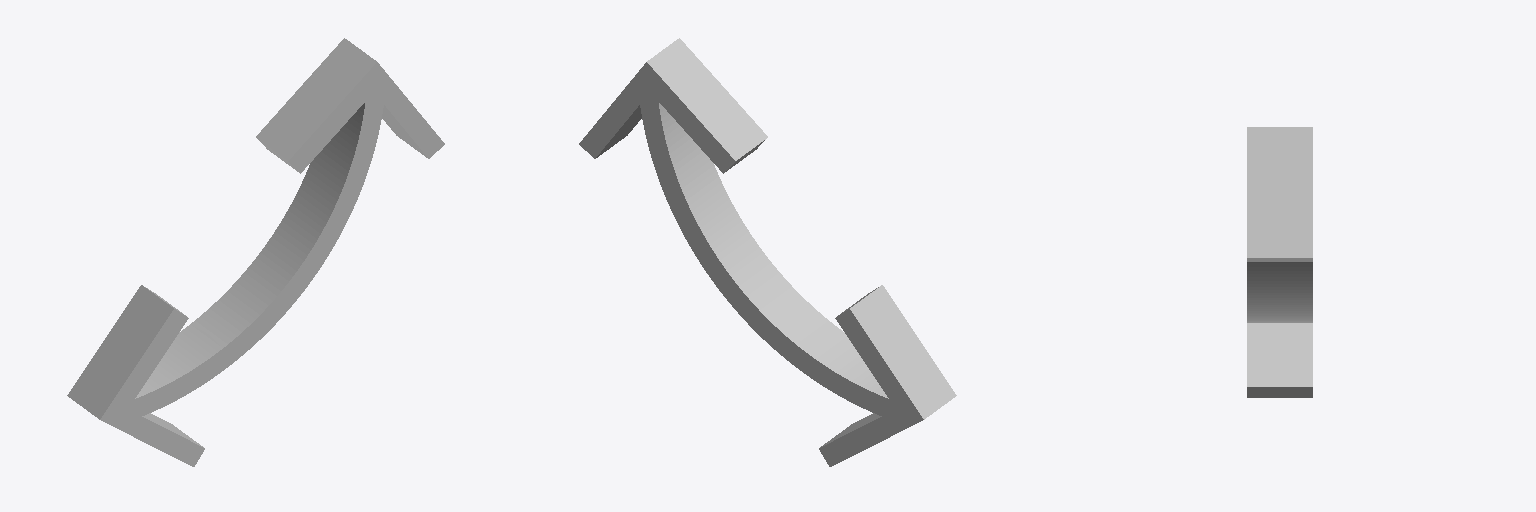
File: rotaryHandleActive.obj
3 renders of one model, left to right at view 1: azimuth 30°, elevation 25°; view 2: azimuth 150°, elevation 25°; view 3: azimuth 270°, elevation 25°, orthographic.
Visible parts, largest first — view 1: groupNumber_0; view 2: groupNumber_0; view 3: groupNumber_0.
Boxes of the visible parts, x1=… form: groupNumber_0: x1=67, y1=38, x2=444, y2=466; groupNumber_0: x1=579, y1=38, x2=956, y2=466; groupNumber_0: x1=1247, y1=127, x2=1312, y2=397.
Size of the model in its own units: 15.14 by 15.14 by 2.5.